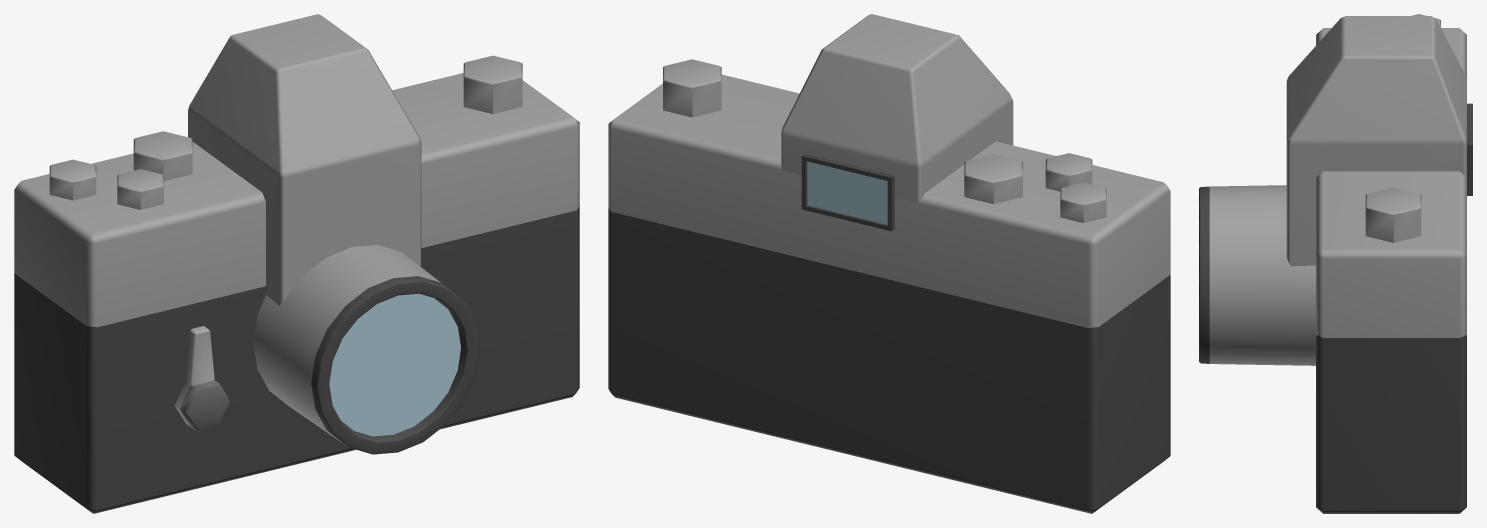
Rendered from Camera_1.glb.
The picture shows the model from 3 angles, left to right: view 1: azimuth 30°, elevation 25°; view 2: azimuth 150°, elevation 25°; view 3: azimuth 270°, elevation 25°; orthographic projection. The views are drawn at different scales.
Parts seen in each view (by area): view 1: Camera_1; view 2: Camera_1; view 3: Camera_1.
Part boxes in pixels (<box>): Camera_1: <box>14,14,579,513</box>; Camera_1: <box>608,14,1170,513</box>; Camera_1: <box>1199,14,1472,513</box>.
Size of the model in its own units: 0.2245 by 0.1694 by 0.1142.
Materials: 1 (1 with a texture image).
